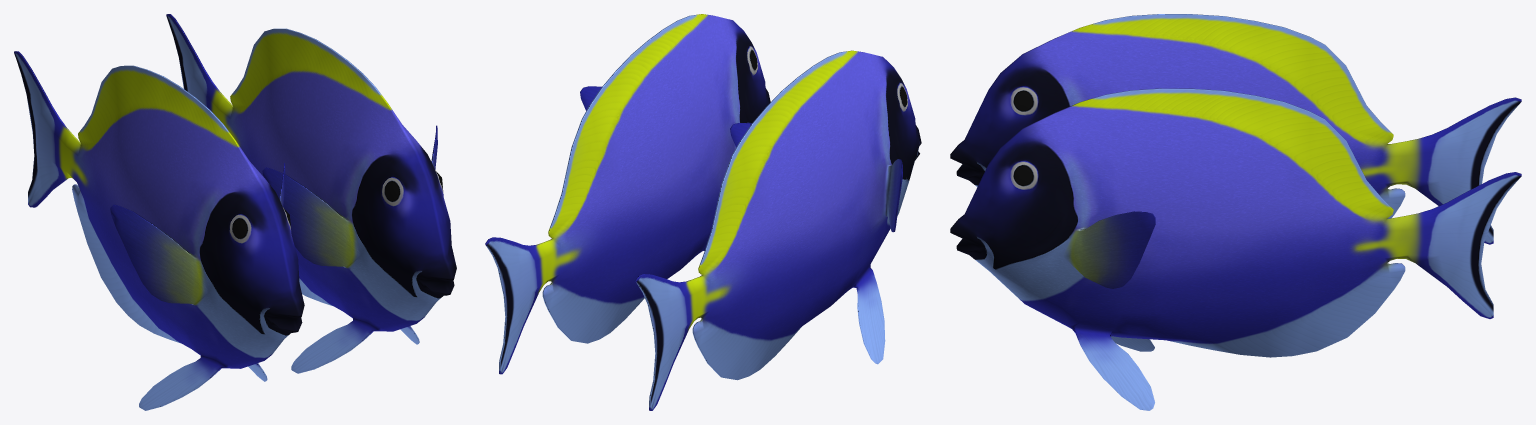
The model's file is powder_blue_tang.glb.
The picture shows the model from 3 angles, left to right: view 1: azimuth 30°, elevation 25°; view 2: azimuth 150°, elevation 25°; view 3: azimuth 270°, elevation 25°; orthographic projection.
Visible parts, largest first — view 1: Object_159; view 2: Object_159; view 3: Object_159.
Part boxes in pixels (<box>): Object_159: <box>14,14,456,410</box>; Object_159: <box>485,14,921,410</box>; Object_159: <box>950,14,1521,410</box>.
Size of the model in its own units: 0.2862 by 0.2437 by 0.4314.
1 material, 1 textured.
